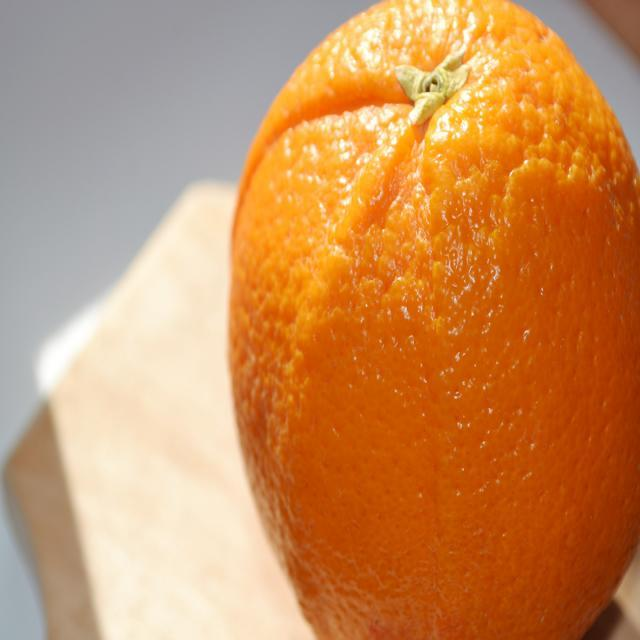Orange: (227, 1, 636, 640)
